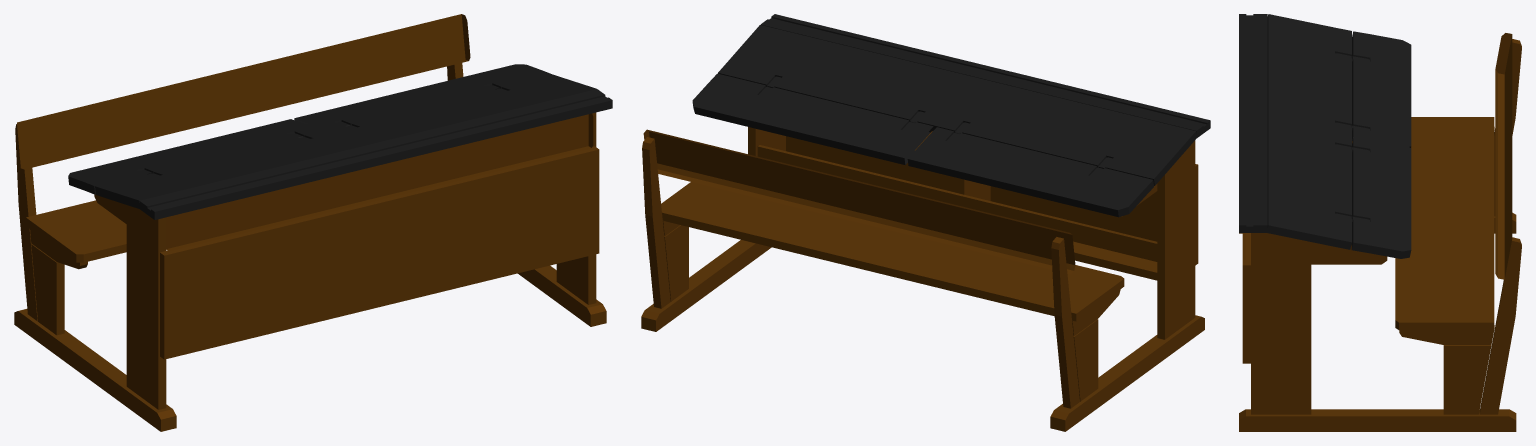
The model's file is 1parta1.glb.
The picture shows the model from 3 angles, left to right: view 1: azimuth 30°, elevation 25°; view 2: azimuth 150°, elevation 25°; view 3: azimuth 270°, elevation 25°; orthographic projection. The views are drawn at different scales.
Parts seen in each view (by area): view 1: Плоскость.006; view 2: Плоскость.006; view 3: Плоскость.006.
Part boxes in pixels (x1=…): Плоскость.006: x1=14, y1=14, x2=612, y2=431; Плоскость.006: x1=641, y1=14, x2=1210, y2=431; Плоскость.006: x1=1239, y1=14, x2=1521, y2=431.
Bounding box in the file's own units: 5.83 × 2.69 × 3.3.
